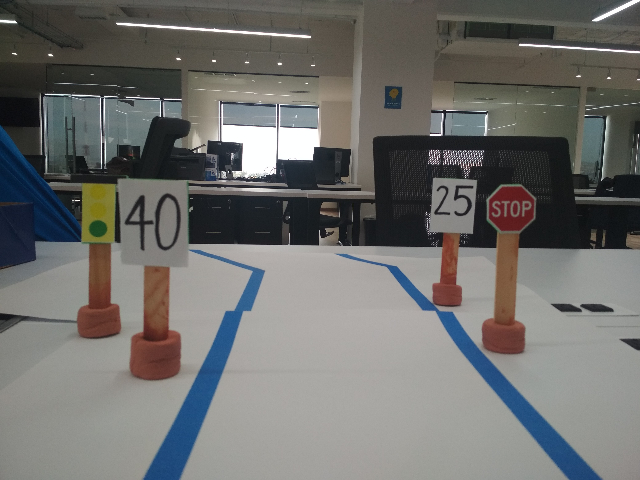Green Traffic Light: (63, 170, 121, 247)
Speed Limit 25: (426, 174, 477, 236)
Speed Limit 40: (115, 176, 192, 270)
Stop Sign: (485, 181, 540, 236)
